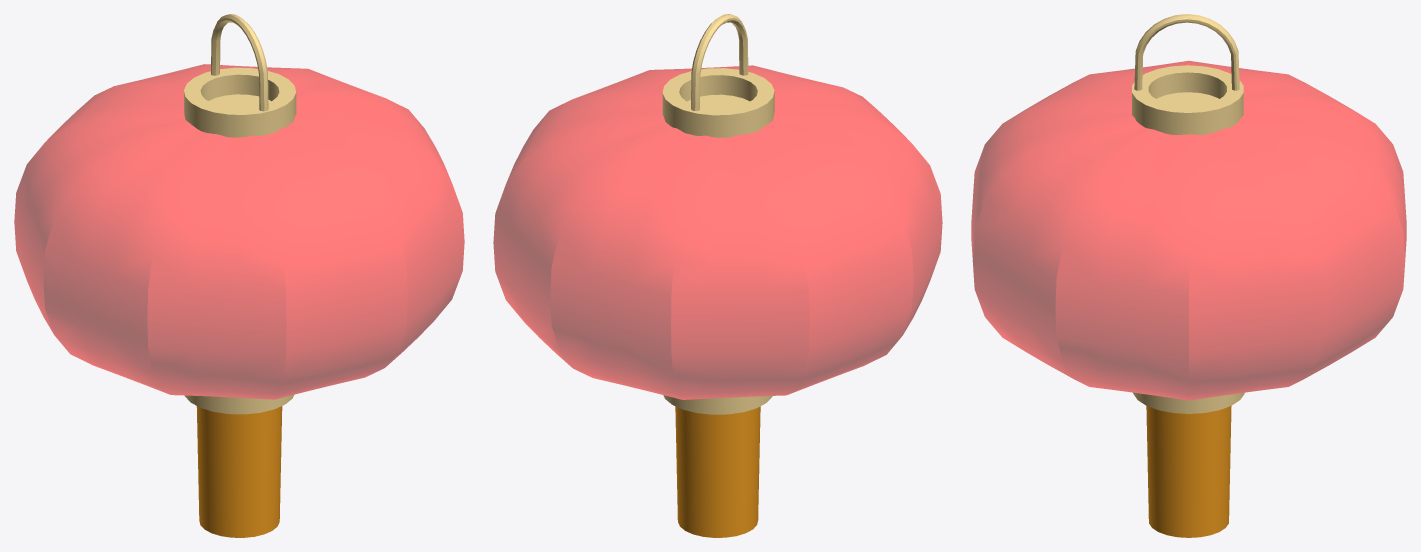
The model's file is SM_lamp_03.fbx.
The picture shows the model from 3 angles, left to right: view 1: azimuth 30°, elevation 25°; view 2: azimuth 150°, elevation 25°; view 3: azimuth 270°, elevation 25°; orthographic projection.
Visible parts, largest first — view 1: SM_lamp_03; view 2: SM_lamp_03; view 3: SM_lamp_03.
Part boxes in pixels (x1,y1,x2,y2): SM_lamp_03: (14,14,464,537); SM_lamp_03: (493,14,942,537); SM_lamp_03: (971,14,1406,537).
Size of the model in its own units: 93.58 by 89.59 by 115.
Materials: 1 (1 with a texture image).
